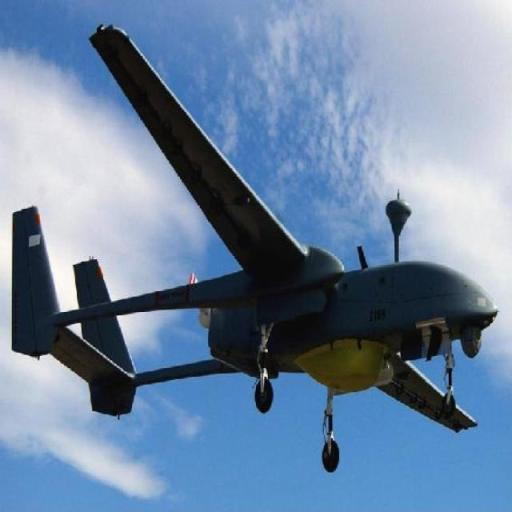uav: (6, 15, 508, 471)
